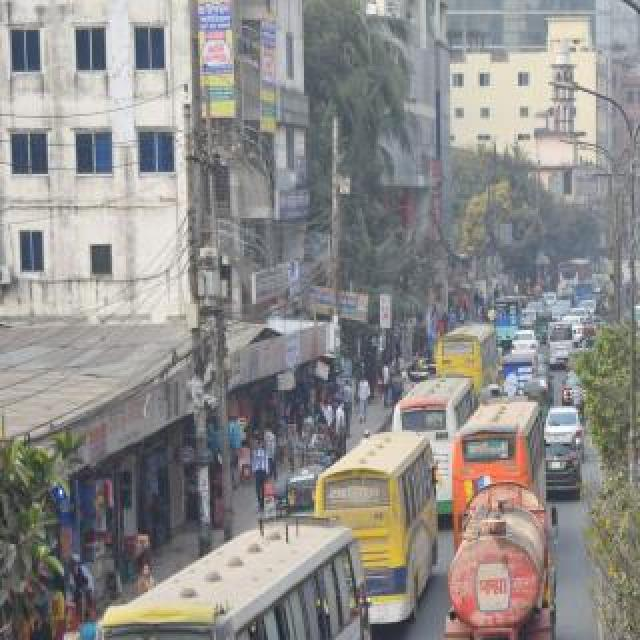bus: (92, 504, 370, 640), (315, 422, 443, 628), (449, 395, 549, 503), (394, 371, 474, 485), (433, 316, 501, 386), (560, 259, 592, 289)
car: (545, 430, 581, 500), (543, 398, 585, 436), (466, 632, 588, 640), (513, 332, 539, 356), (564, 315, 584, 343), (578, 299, 600, 317), (638, 280, 640, 302)
motorbike: (569, 382, 587, 418)
truck: (444, 484, 564, 640)
van: (499, 352, 547, 392), (546, 320, 574, 370), (495, 297, 525, 341)
